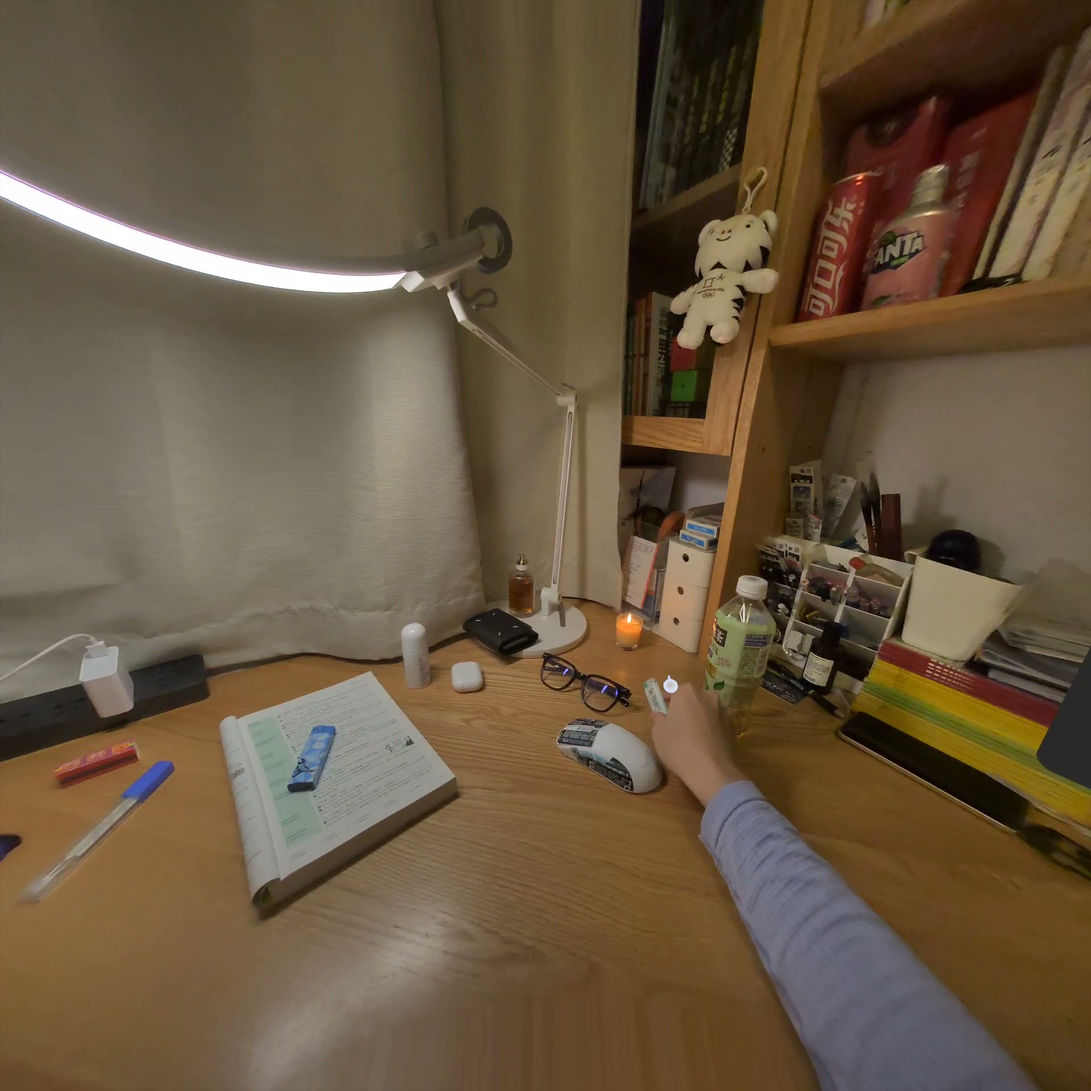lighter: (644, 679, 668, 714)
